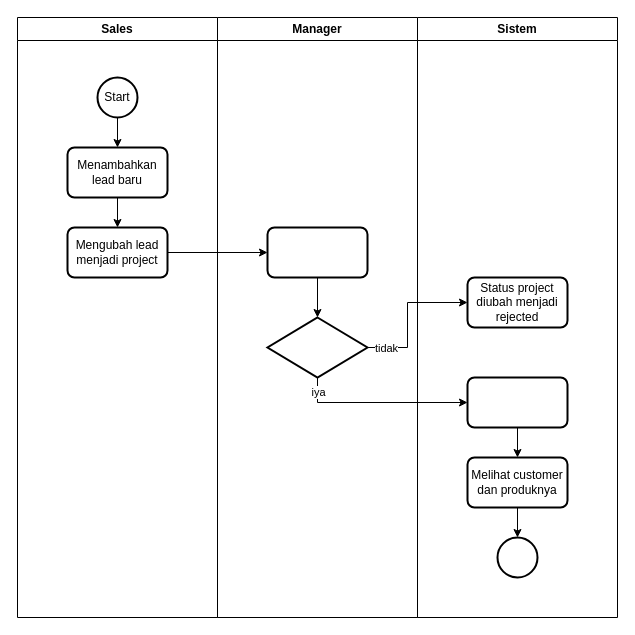
This 635x635 diagram has some shape labels left out. Each missing label, with the centre of its shape:
Approved?: pixel 317 347
End: pixel 517 557
Lead diubah menjadi customer: pixel 517 402
Melakukan approval project: pixel 317 252
